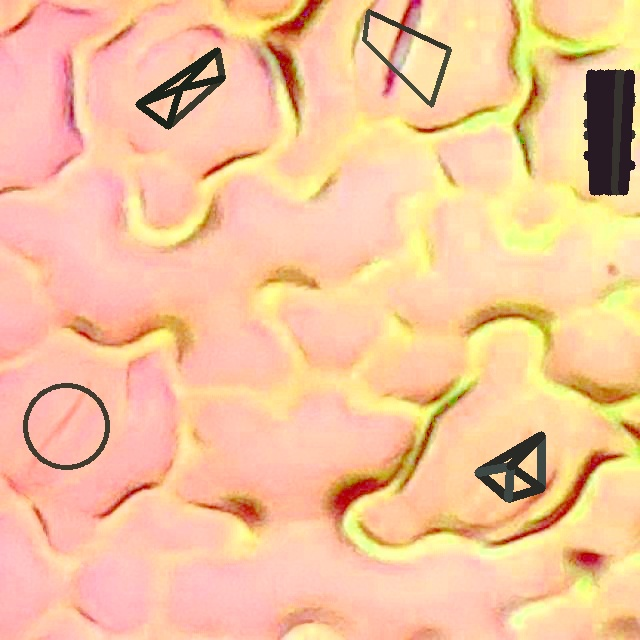close: (22, 382, 110, 469), (136, 47, 224, 128), (584, 69, 634, 195), (474, 431, 545, 502)
open: (362, 9, 451, 107)
